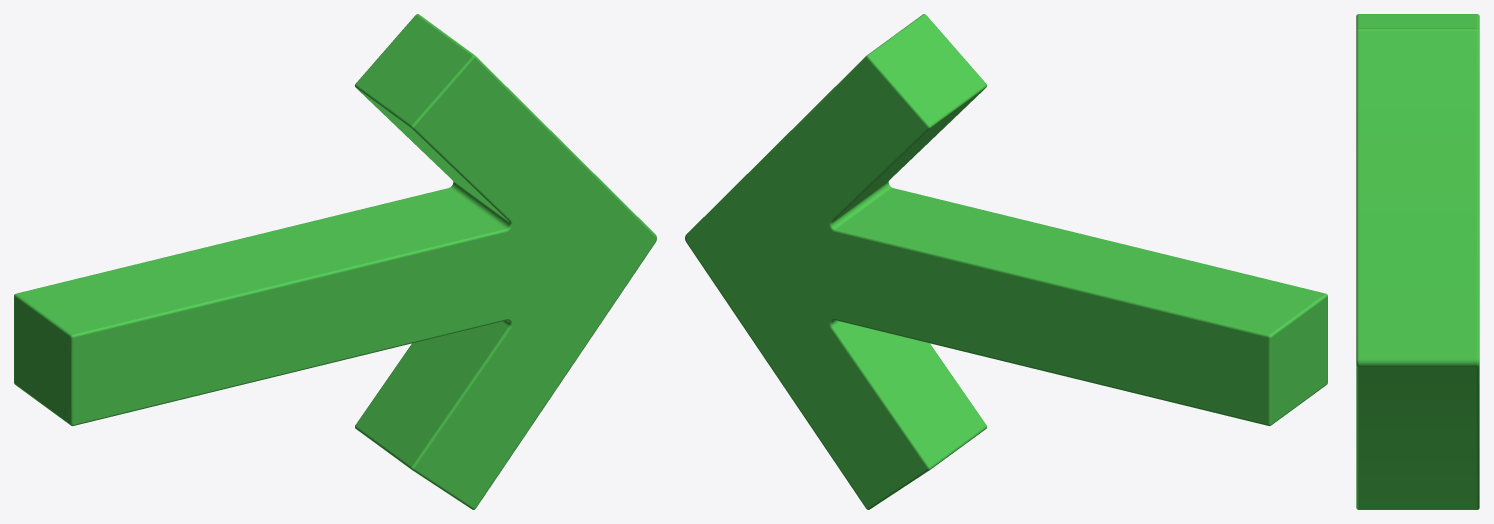
Rendered from 9f125464-2143-4ff2-b7f5-daca2d6a5ef7_GreenArrow.glb.
3 renders of one model, left to right at view 1: azimuth 30°, elevation 25°; view 2: azimuth 150°, elevation 25°; view 3: azimuth 270°, elevation 25°, orthographic. The views are drawn at different scales.
Visible parts, largest first — view 1: arrow_symbol_03; view 2: arrow_symbol_03; view 3: arrow_symbol_03.
Boxes of the visible parts, <box> form: arrow_symbol_03: <box>14,14,656,509</box>; arrow_symbol_03: <box>685,14,1327,509</box>; arrow_symbol_03: <box>1356,14,1479,509</box>.
Size of the model in its own units: 0.0117 by 0.00864 by 0.00201.
1 material, 1 textured.
